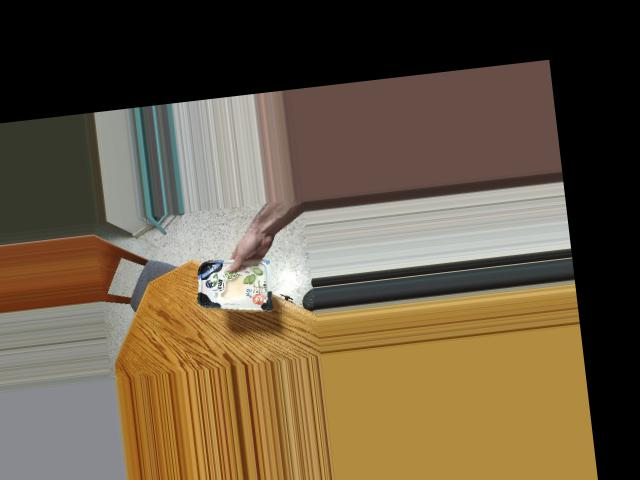cheese: (194, 244, 275, 319)
